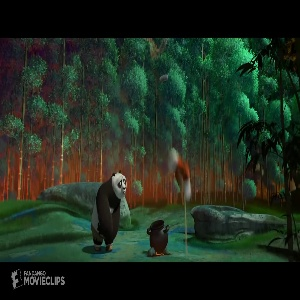dog: (87, 169, 127, 254)
